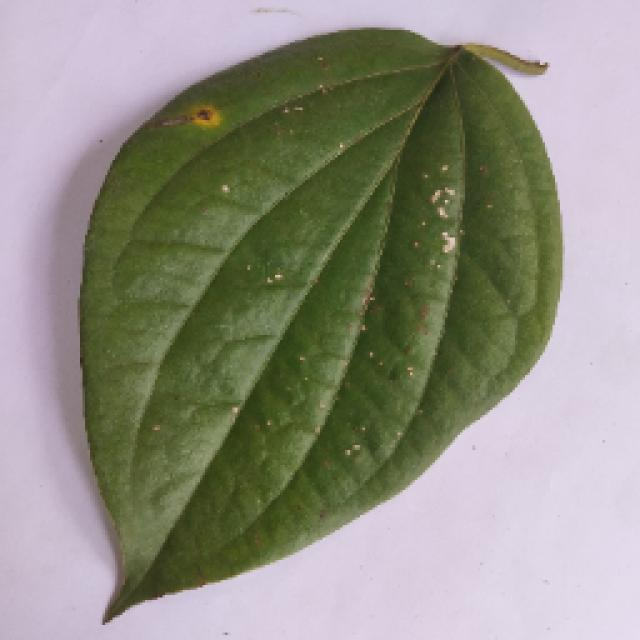pollu-disease: (25, 38, 575, 622)
